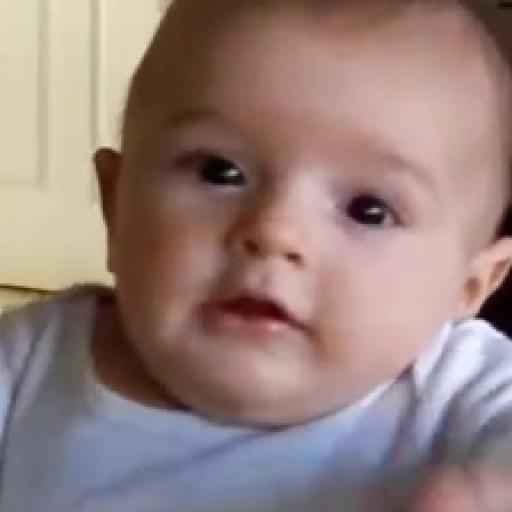Autism: (88, 29, 468, 435)
